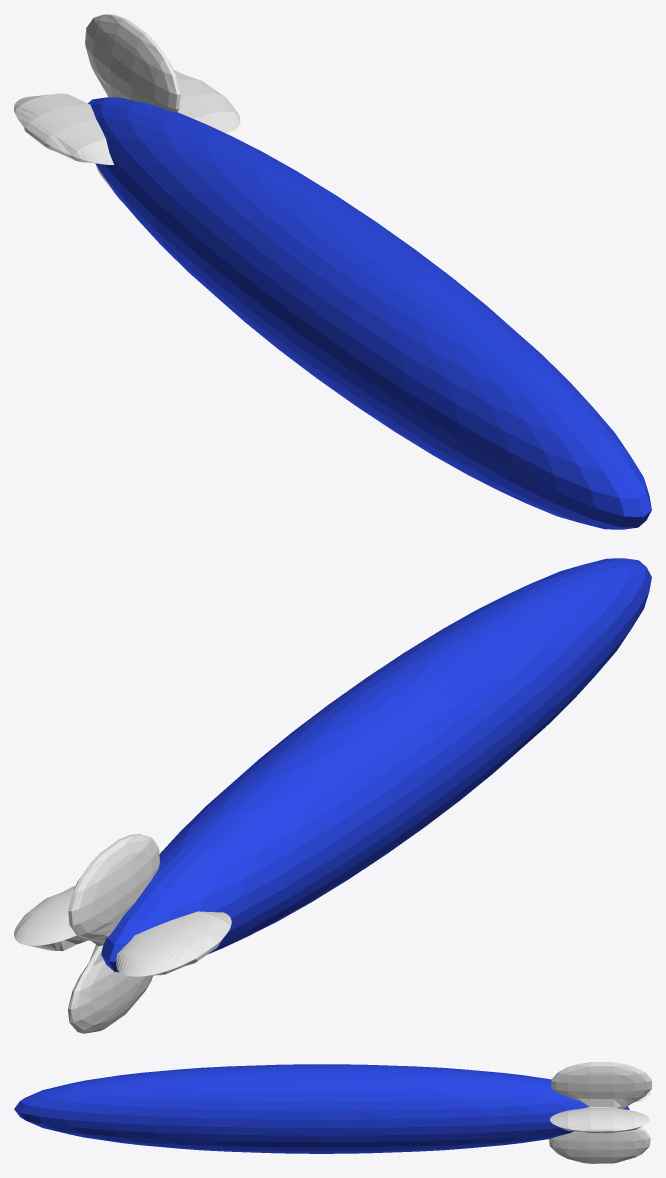
File: missileBasic3.fbx
3 views of the same model, one above another, from view 1: azimuth 30°, elevation 25°; view 2: azimuth 150°, elevation 25°; view 3: azimuth 270°, elevation 25° (orthographic). The views are drawn at different scales.
Parts seen in each view (by area): view 1: Sphere, Mball; view 2: Sphere, Mball; view 3: Sphere, Mball.
Part boxes in pixels (x1,y1,x2,y2): Sphere: (88,97,651,529); Mball: (14,14,240,202); Sphere: (101,558,651,972); Mball: (14,834,231,1033); Sphere: (14,1064,629,1153); Mball: (549,1062,651,1163).
Size of the model in its own units: 10.39 by 9.96 by 56.87.
